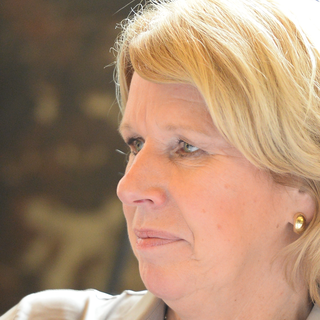eye: (171, 134, 208, 160), (118, 134, 154, 158)
